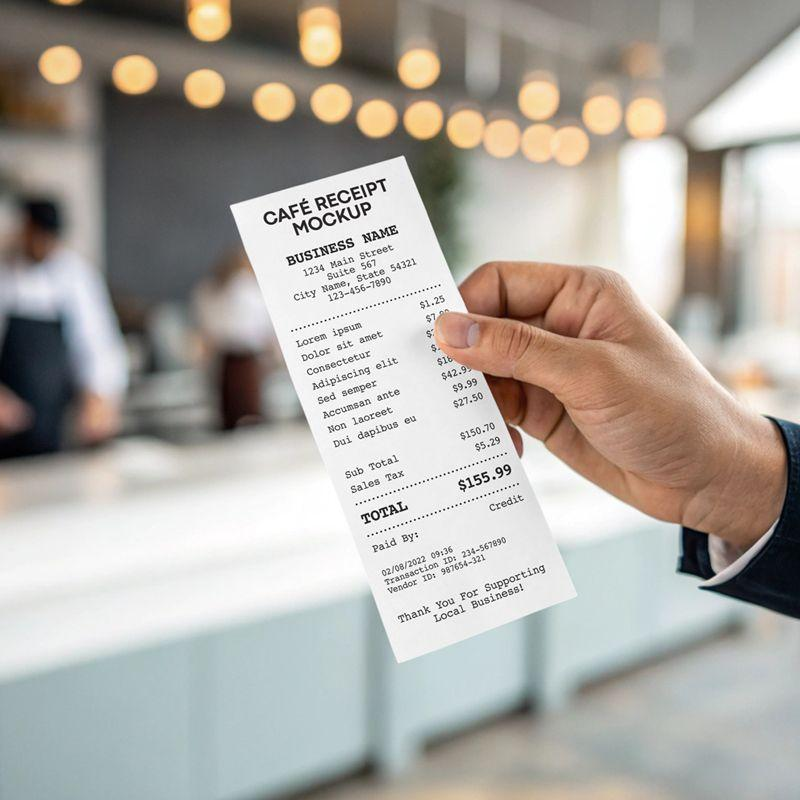receipt-in-hand: (232, 158, 574, 660)
